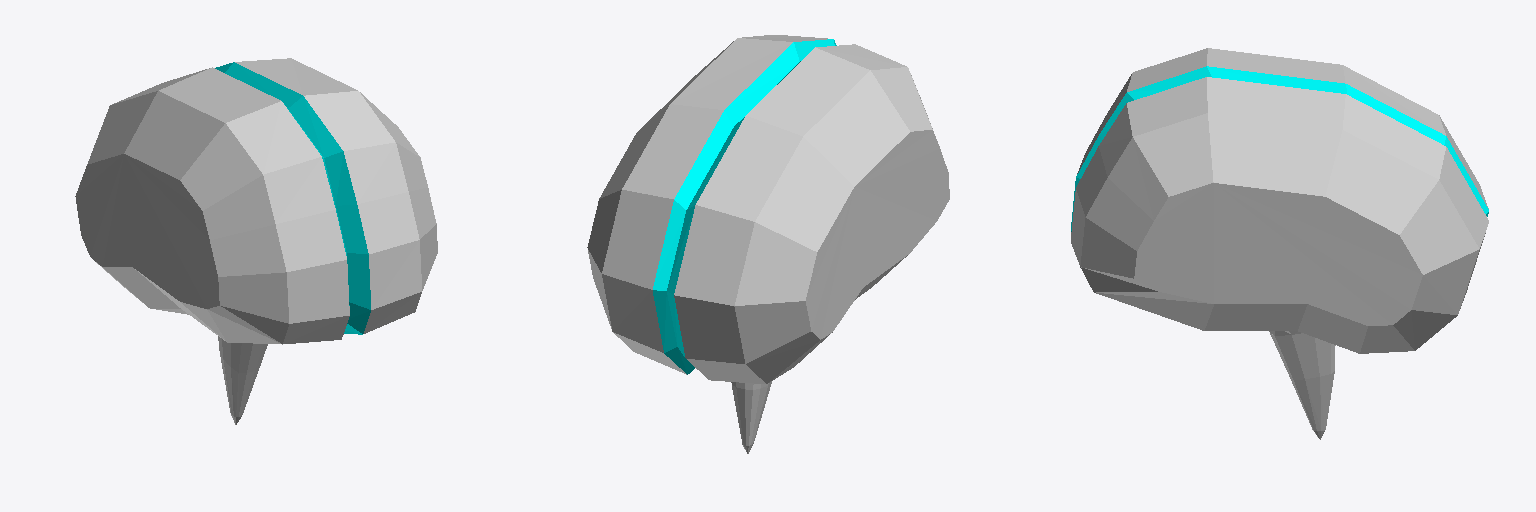
Rendered from Brain.obj.
The picture shows the model from 3 angles: view 1: azimuth 30°, elevation 25°; view 2: azimuth 150°, elevation 25°; view 3: azimuth 270°, elevation 25°; orthographic projection.
Parts seen in each view (by area): view 1: N-Gon3; view 2: N-Gon3; view 3: N-Gon3.
Boxes of the visible parts, box(x1,y1,x2,y2) form: N-Gon3: box(75, 58, 437, 424); N-Gon3: box(587, 35, 949, 453); N-Gon3: box(1071, 48, 1488, 439).
Size of the model in its own units: 0.6022 by 0.9718 by 1.